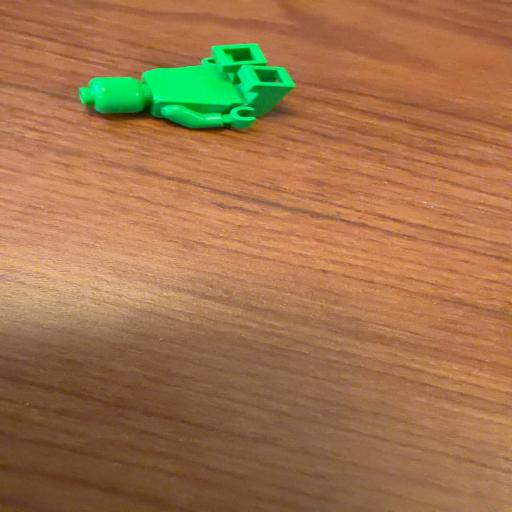UnoQ-minifig-detector: (79, 44, 295, 129)
